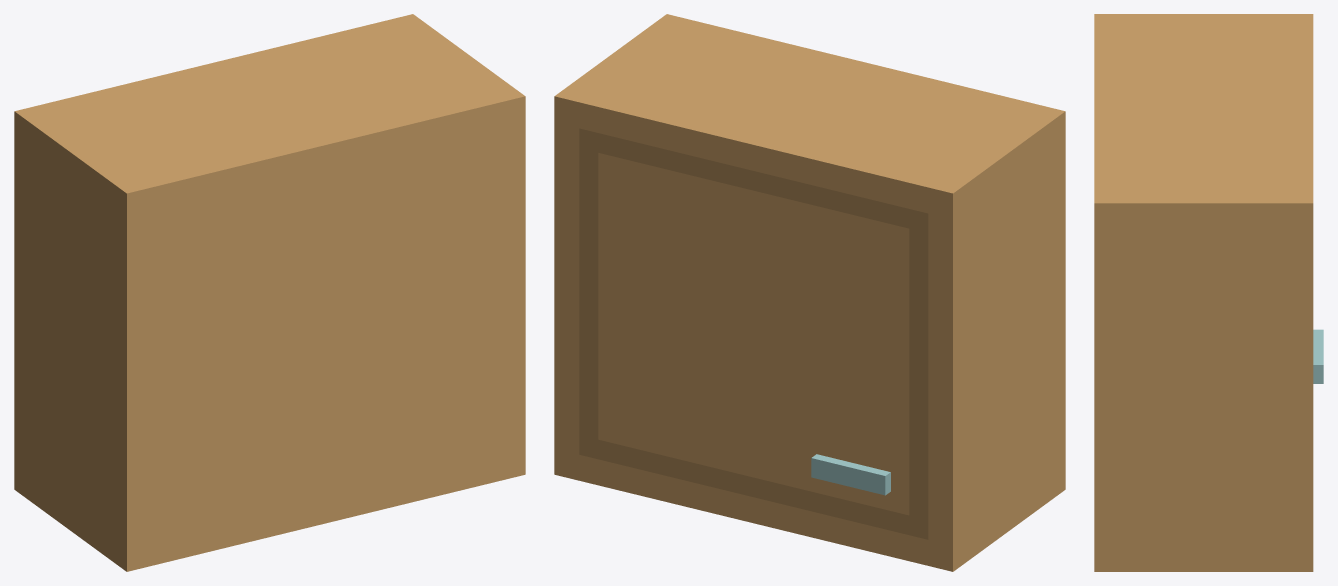
Rendered from kitchenCabinetUpper.glb.
The picture shows the model from 3 angles, left to right: view 1: azimuth 30°, elevation 25°; view 2: azimuth 150°, elevation 25°; view 3: azimuth 270°, elevation 25°; orthographic projection. The views are drawn at different scales.
Bounding box in the file's own units: 4.3 × 3.9 × 2.2.
